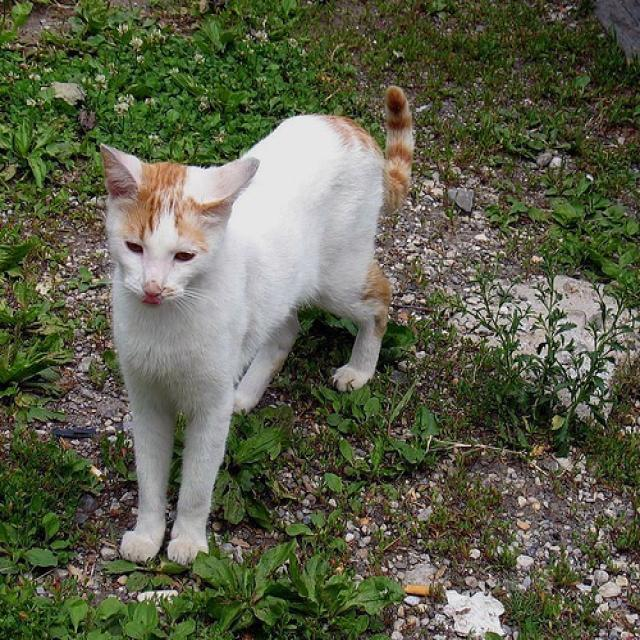cat: (98, 85, 416, 568)
